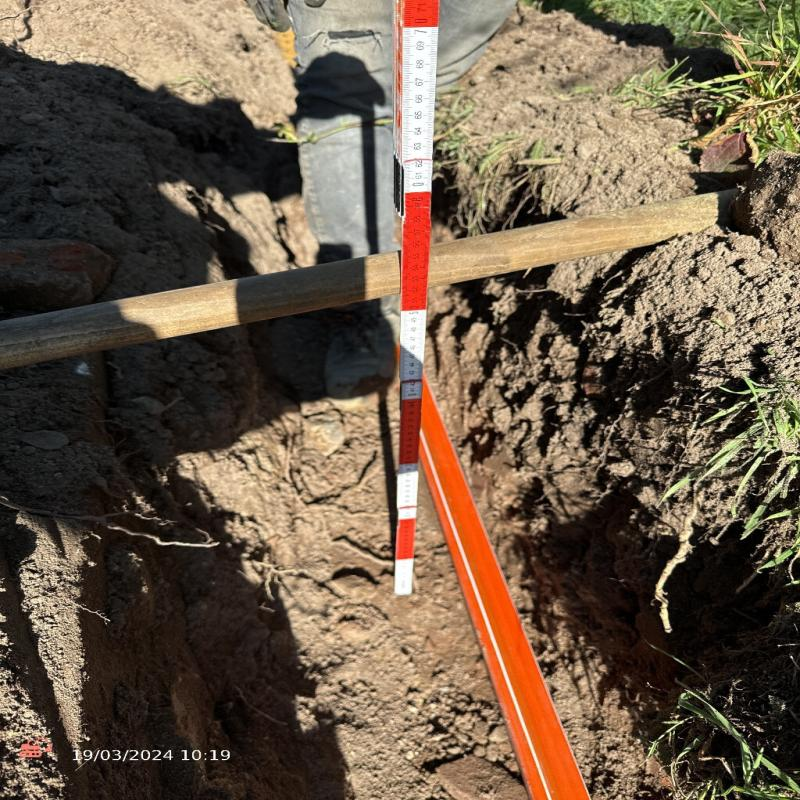Orang-Speednetrohrchen: (422, 365, 597, 796)
